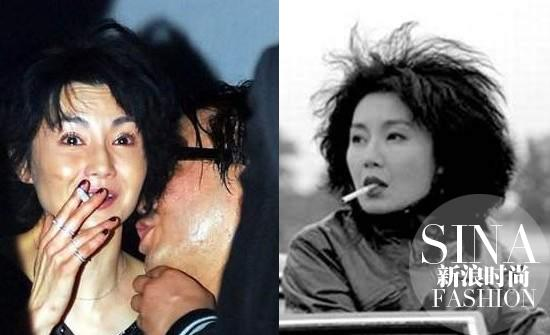smoking: (334, 179, 385, 210), (74, 186, 98, 212)
